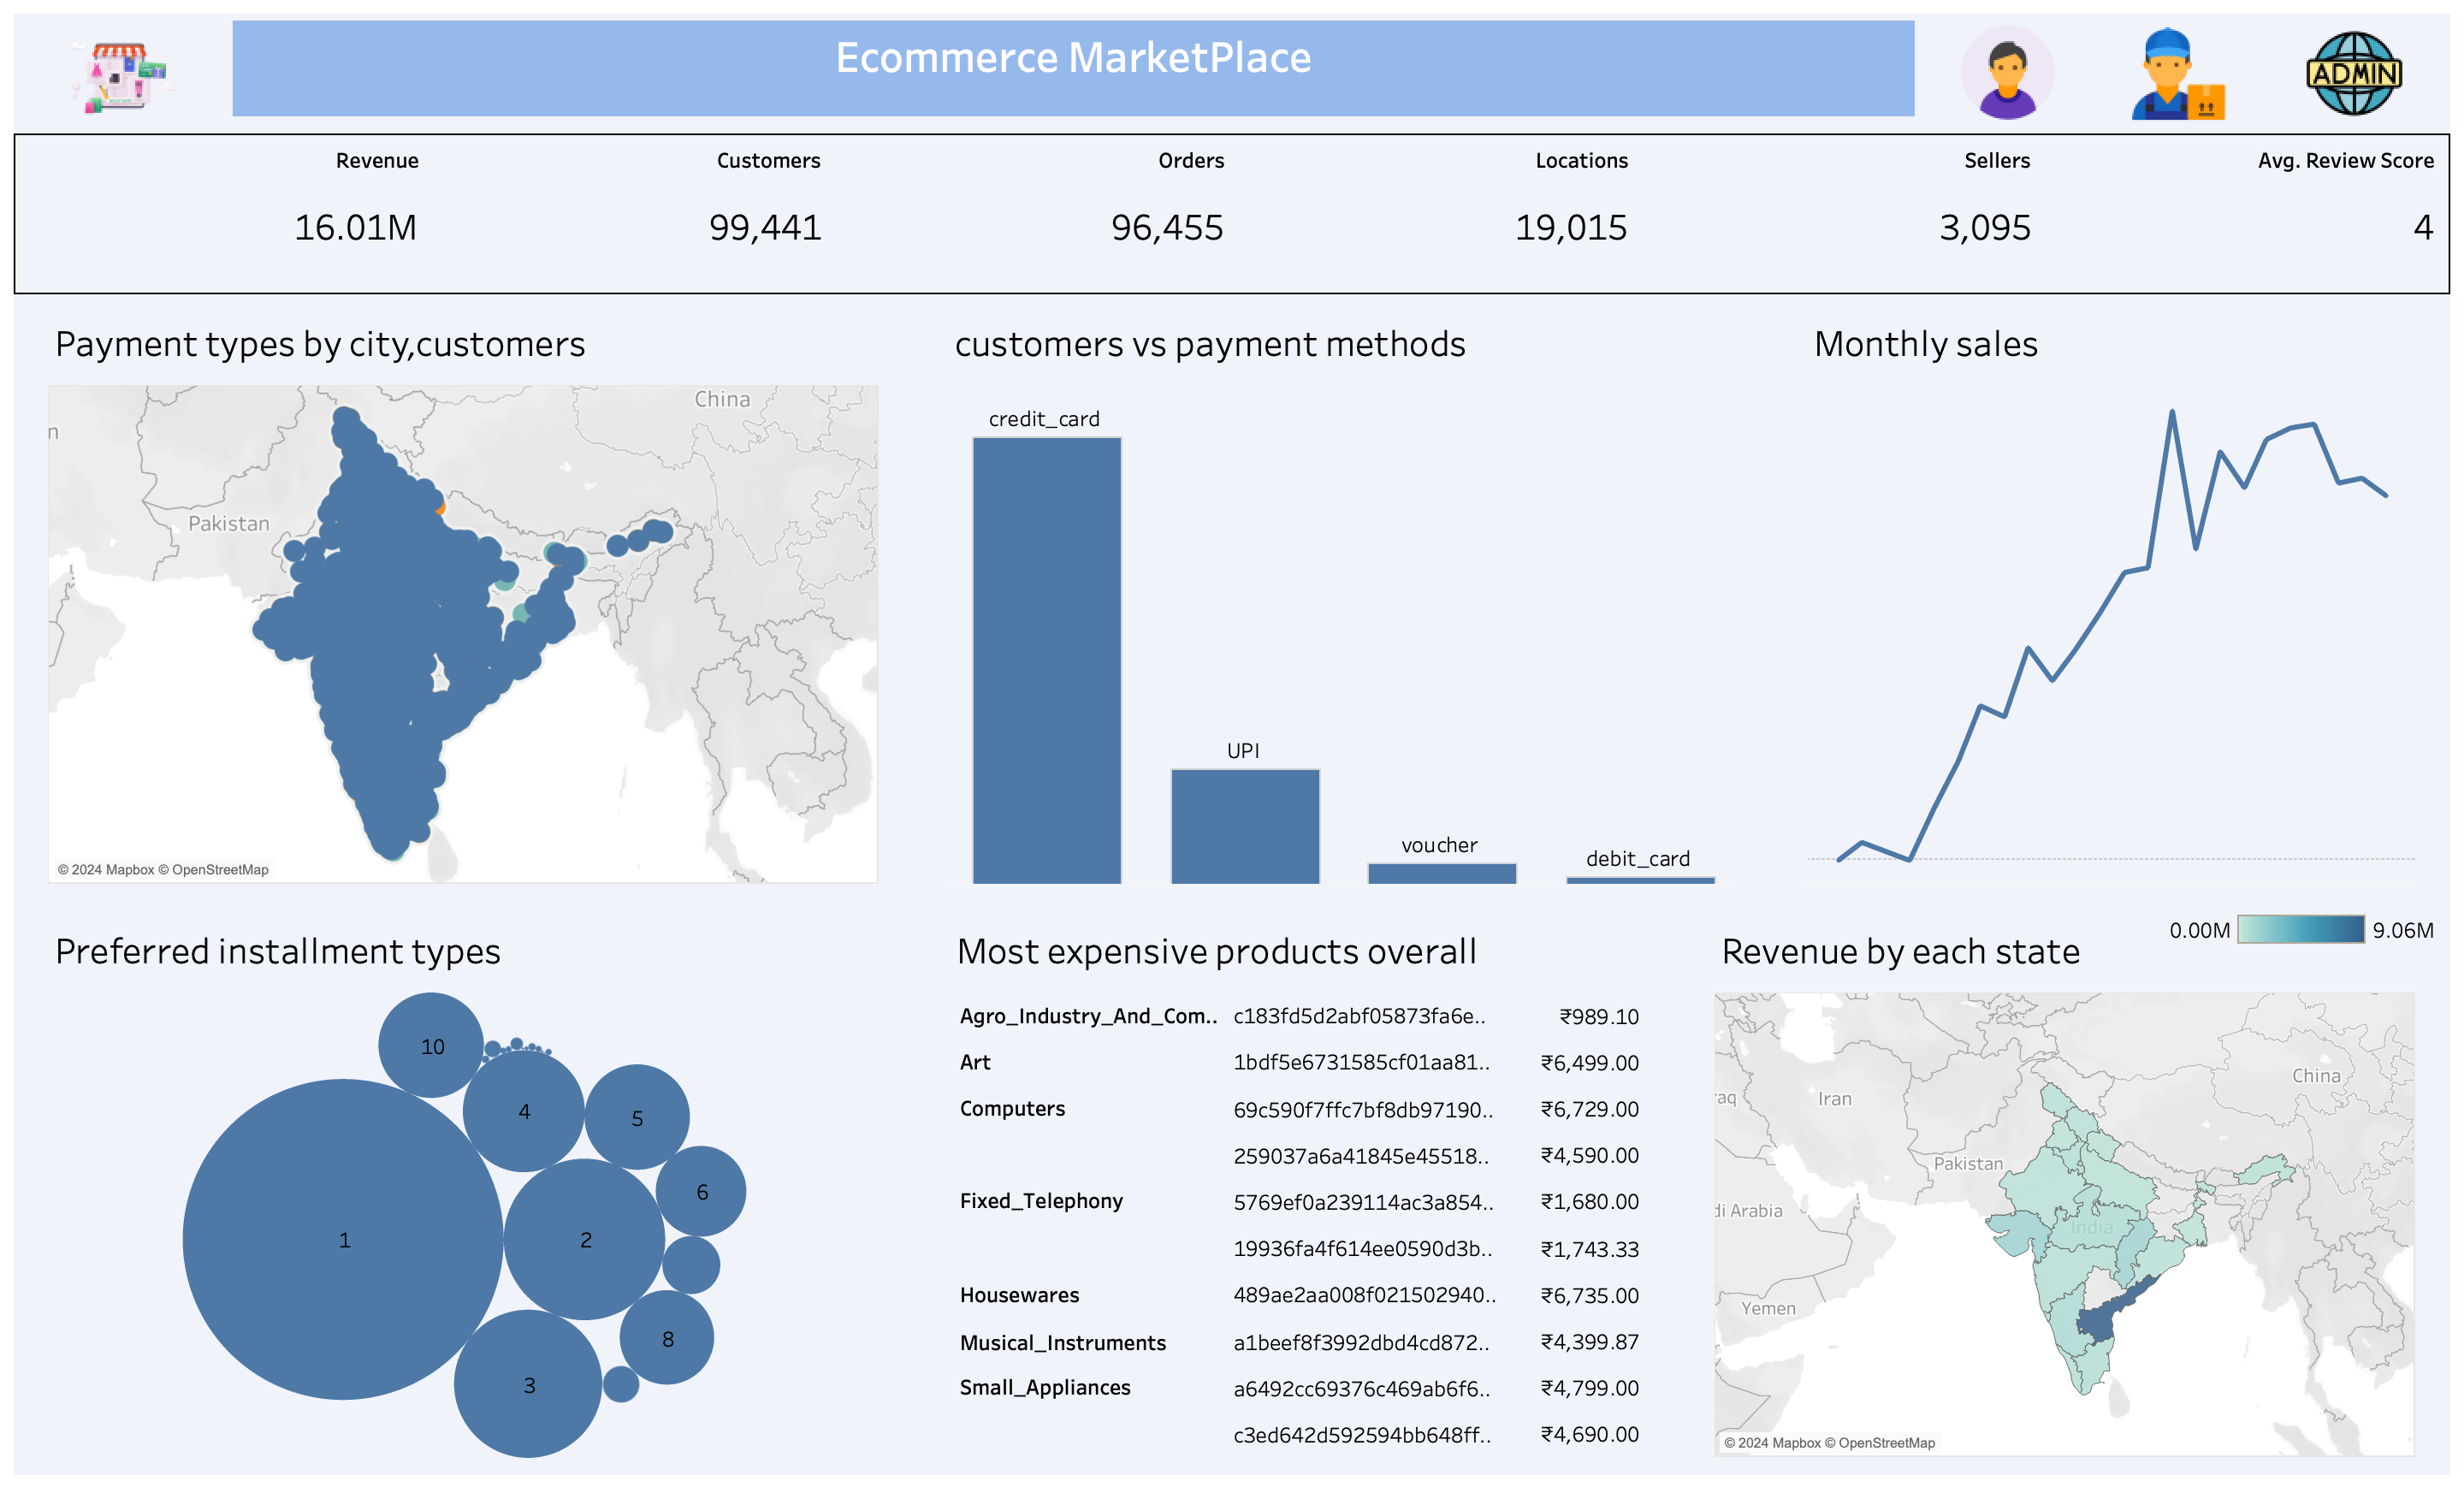

What the dashboard file says about the page in this screenshot:
{"tool":"tableau","page":{"name":"Admin","canvas":[1000,1000],"units":"permille","ordinal":0},"visuals":[{"type":"dashboard-object","box":[6.5,11.6,85.8,79.9]},{"type":"dashboard-object","box":[779,11.6,70,79.9]},{"type":"dashboard-object","box":[849.1,11.6,67.5,79.9]},{"type":"dashboard-object","box":[916.6,11.6,76.9,79.9]},{"type":"text","box":[95.6,17.5,680.2,59.5]},{"type":"worksheet","title":"Kpi ","mark":"Automatic","box":[7.3,93.2,985.4,104.8]},{"type":"worksheet","title":"Payment types by city,customers","mark":"Automatic","box":[6.5,199.2,364.9,405.5]},{"type":"worksheet","title":"customers vs payment methods","mark":"Automatic","rows":["customer_id"],"cols":["payment_type"],"box":[371.4,199.2,347.8,405.5]},{"type":"worksheet","title":"Monthly sales","mark":"Automatic","rows":["Calculation_52283989965983744"],"cols":["Calculation_53620995881111566"],"box":[719.2,199.2,274.3,405.5]},{"type":"worksheet","title":"Preferred installment types","mark":"Circle","box":[6.5,604.7,365.2,383.7]},{"type":"worksheet","title":"expensive products overall","mark":"Automatic","rows":["product_category_name","product_id (products)"],"box":[371.7,604.7,310.1,383.7]},{"type":"worksheet","title":"Revenue by each state","mark":"Automatic","box":[681.8,604.7,311.7,383.7]},{"type":"legend","title":"Revenue by each state","param":"[federated.0qm3pxs12zi57315z8y3x1pmuhs6].[sum:payment_value:qk]","box":[878,610.1,113.9,45.8]}]}

Visuals, with their boxes on the dashboard's canvas, which has no fixed pixel size, in thousandths of its width and height (x1, y1, x2, y2). These are canvas units, not pixel positions in the 2464x1487 screenshot, which may show the page scaled, cropped or inside an application window:
dashboard-object: region(6, 12, 92, 92)
dashboard-object: region(779, 12, 849, 92)
dashboard-object: region(849, 12, 917, 92)
dashboard-object: region(917, 12, 994, 92)
text: region(96, 18, 776, 77)
"Kpi " worksheet: region(7, 93, 993, 198)
"Payment types by city,customers" worksheet: region(6, 199, 371, 605)
"customers vs payment methods" worksheet: region(371, 199, 719, 605)
"Monthly sales" worksheet: region(719, 199, 994, 605)
"Preferred installment types" worksheet (Circle marks): region(6, 605, 372, 988)
"expensive products overall" worksheet: region(372, 605, 682, 988)
"Revenue by each state" worksheet: region(682, 605, 994, 988)
"Revenue by each state" legend: region(878, 610, 992, 656)
